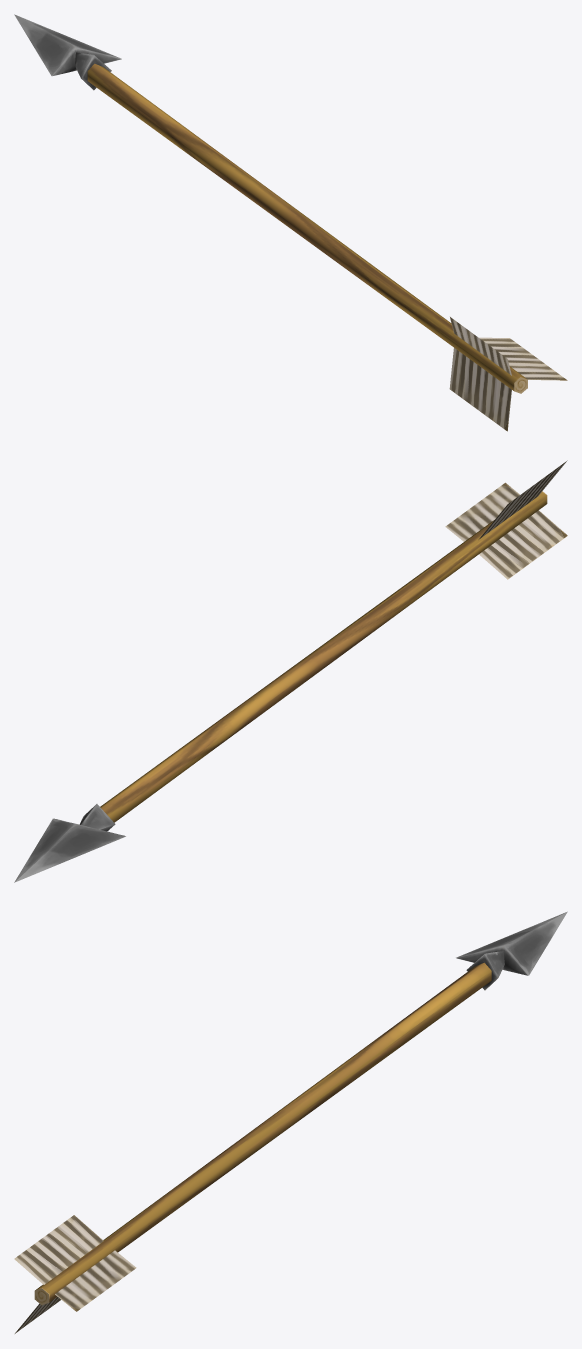
The model's file is SM_PROP_weapon_arrow_dungeon.fbx.
The picture shows the model from 3 angles, top to bottom: view 1: azimuth 30°, elevation 25°; view 2: azimuth 150°, elevation 25°; view 3: azimuth 330°, elevation 25°; orthographic projection. The views are drawn at different scales.
Visible parts, largest first — view 1: SM_PROP_weapon_arrow_dungeon; view 2: SM_PROP_weapon_arrow_dungeon; view 3: SM_PROP_weapon_arrow_dungeon.
Part boxes in pixels (box(x1,y1,x2,y2)): SM_PROP_weapon_arrow_dungeon: box(14, 14, 567, 431); SM_PROP_weapon_arrow_dungeon: box(14, 460, 567, 882); SM_PROP_weapon_arrow_dungeon: box(14, 911, 567, 1333).
Bounding box in the file's own units: 4.69 × 4.32 × 55.21.
